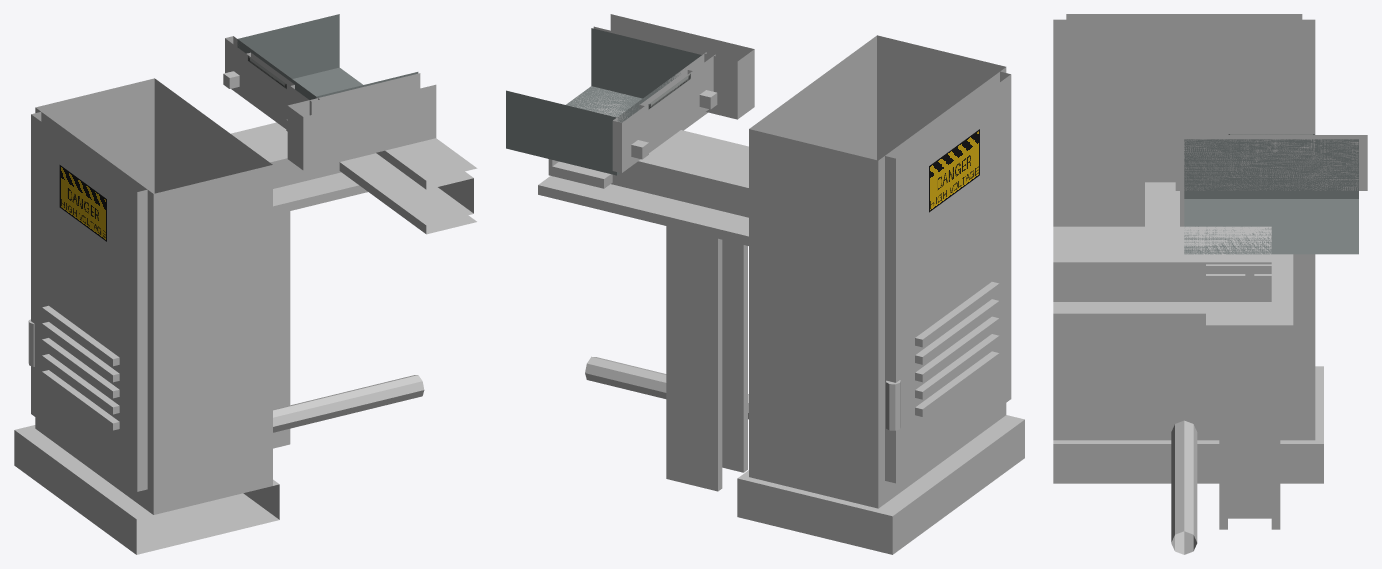
Rendered from cell_0.obj.
3 renders of one model, left to right at view 1: azimuth 30°, elevation 25°; view 2: azimuth 150°, elevation 25°; view 3: azimuth 270°, elevation 25°, orthographic. The views are drawn at different scales.
Bounding box in the file's own units: 1 × 1 × 0.72.
